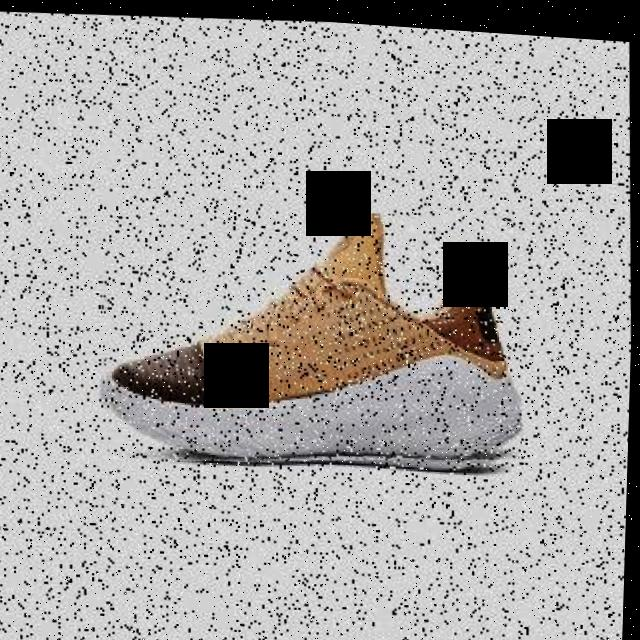shoe: (93, 188, 530, 482)
